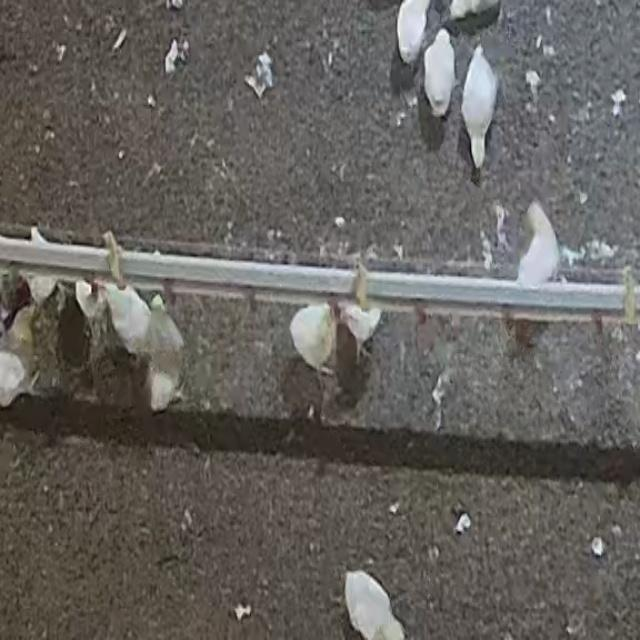chicken: (505, 195, 573, 285), (461, 39, 501, 170), (146, 296, 189, 416), (286, 301, 336, 378), (422, 26, 459, 120)
